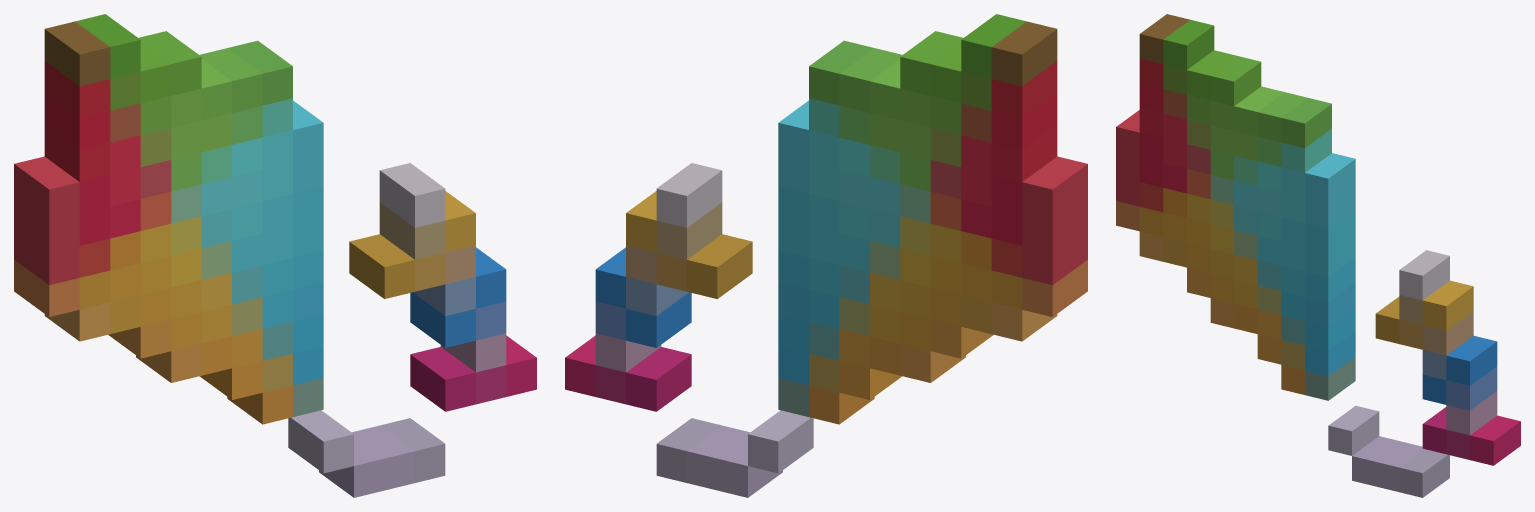
The model's file is kite.glb.
3 views of the same model, side by side, from view 1: azimuth 30°, elevation 25°; view 2: azimuth 150°, elevation 25°; view 3: azimuth 330°, elevation 25° (orthographic). The views are drawn at different scales.
Visible parts, largest first — view 1: prop; view 2: prop; view 3: prop.
Boxes of the visible parts, x1,y1,x2,y2 form: prop: (14,14,536,497); prop: (565,14,1087,497); prop: (1116,14,1520,497).
Size of the model in its own units: 16 by 16 by 2.
